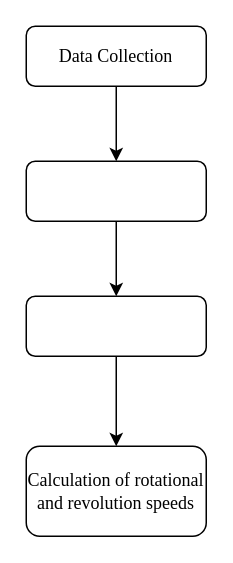
Some shapes in this 233 by 563 pixel diagram are drawn without their labels. Each missing label, with the box of its shape:
Object Detection and Tracking: (25, 160, 206, 221)
Particle State Classification: (25, 295, 206, 356)
